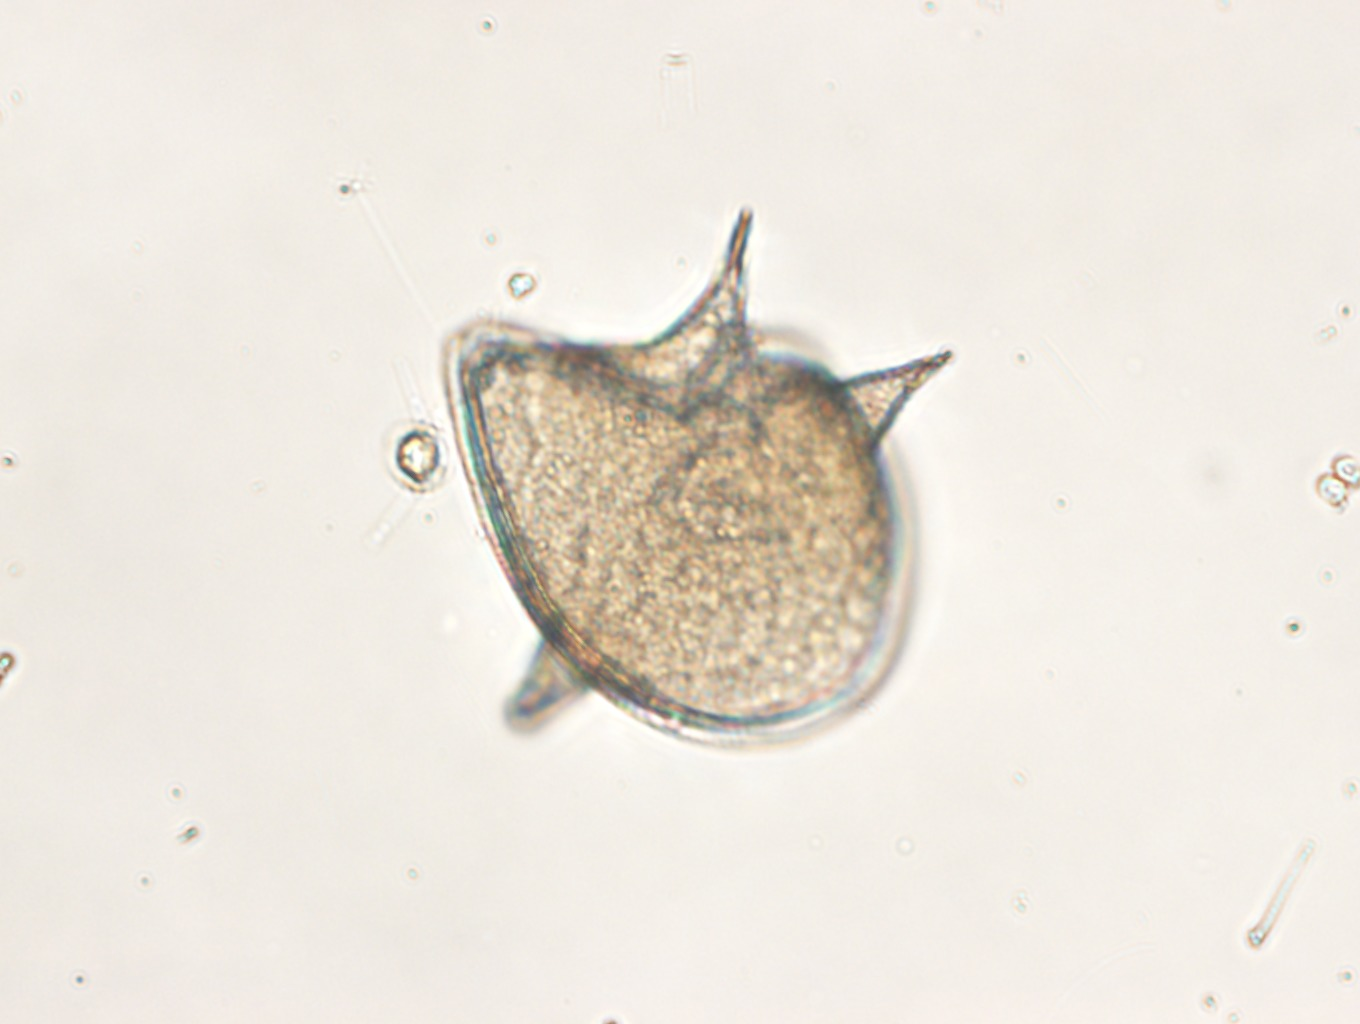protoperidinium: (441, 208, 953, 754)
